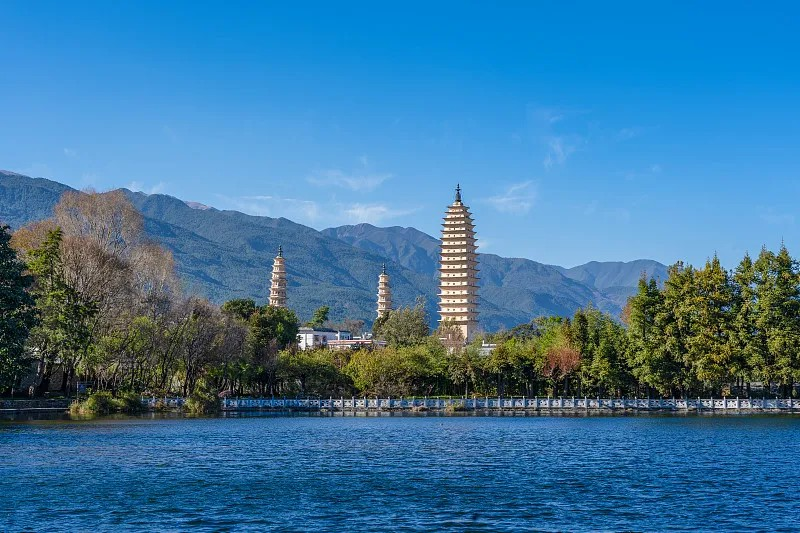ThreePagoda: (437, 184, 480, 343)
